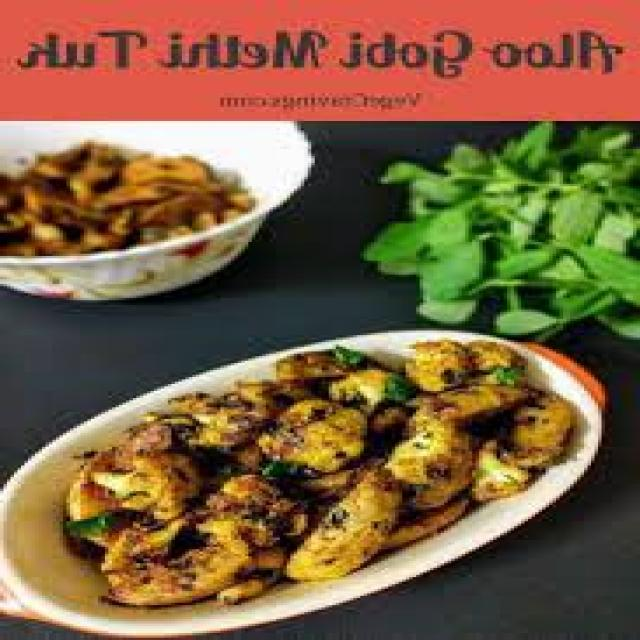Aloo Gobi: (69, 340, 542, 606)
